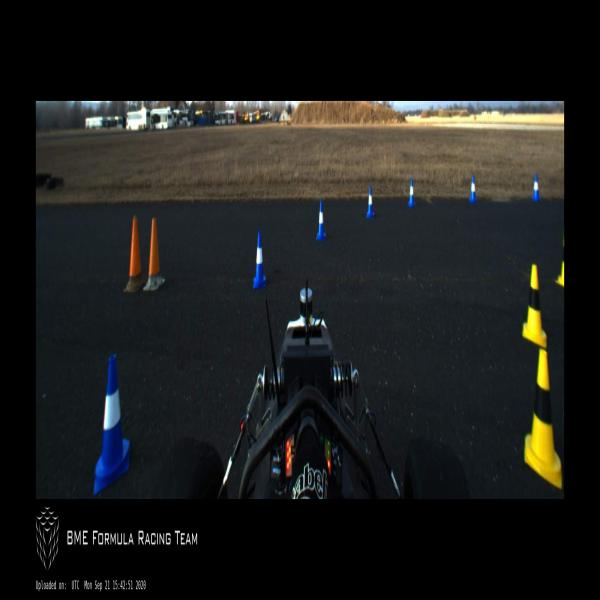blue_cone: (94, 355, 130, 496), (253, 231, 266, 290), (315, 200, 327, 240), (366, 185, 375, 219), (470, 176, 478, 205), (532, 174, 540, 202), (408, 179, 415, 208)
yellow_cone: (524, 348, 562, 488), (522, 264, 548, 349)
